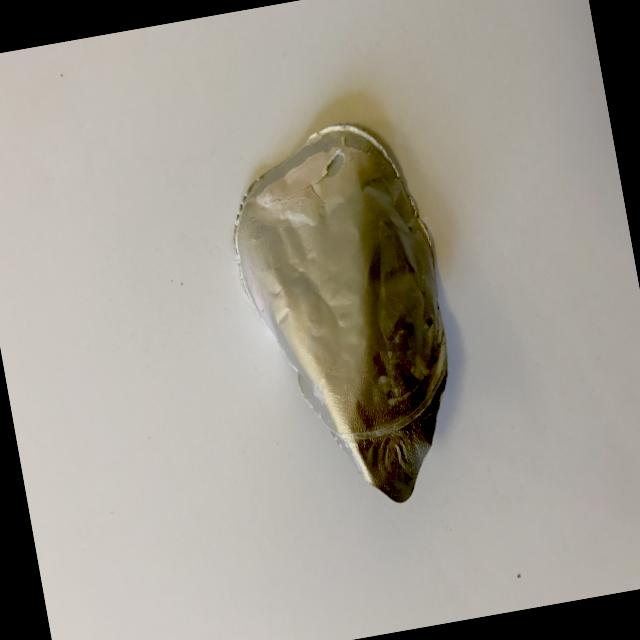Plastic: (187, 80, 526, 554)
